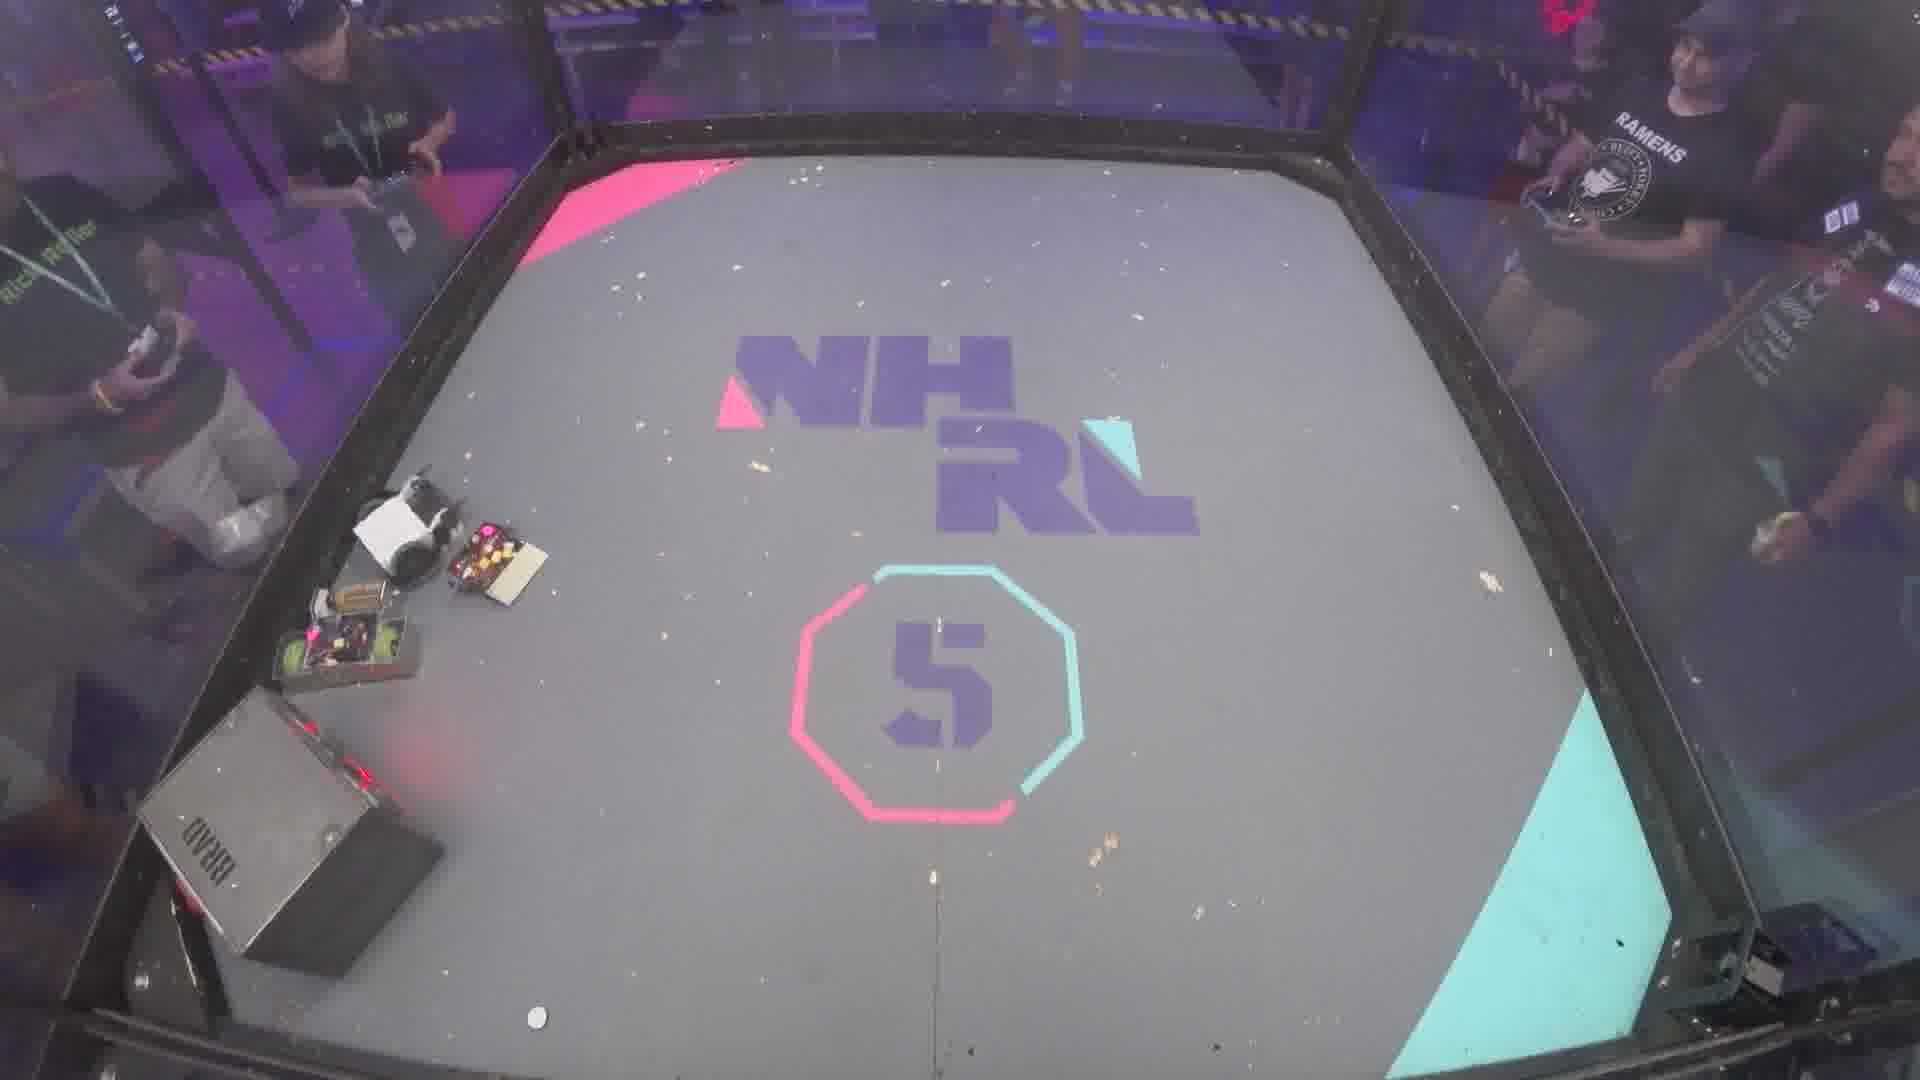combatbot: (274, 583, 418, 691), (348, 464, 463, 588)
housebot: (138, 682, 450, 982)
minibot: (443, 520, 526, 611)
